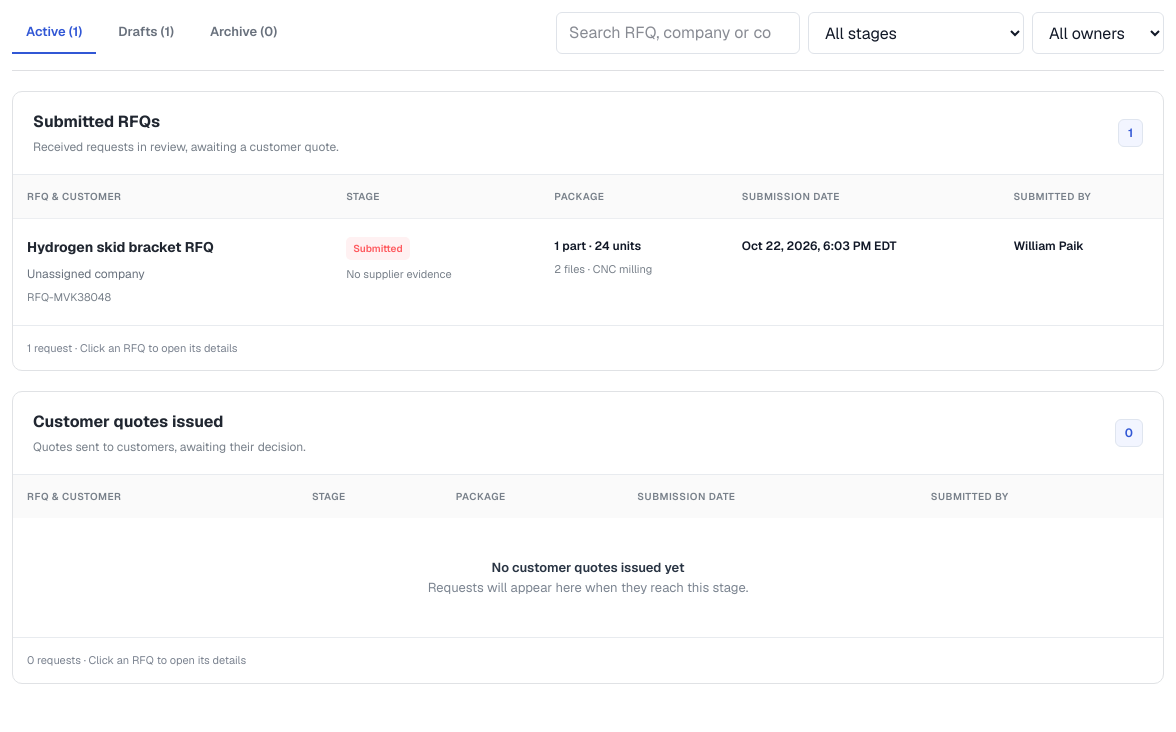
Test case: AdminQuoteManagement › keeps draft RFQs out of the active queue and opens the draft tab
This screenshot has width=1176, height=732.
expect the text "Draft bracket" is not shown: met
Click the button "Drafts (1)".
click(146, 33)  # box [104,12,188,54]
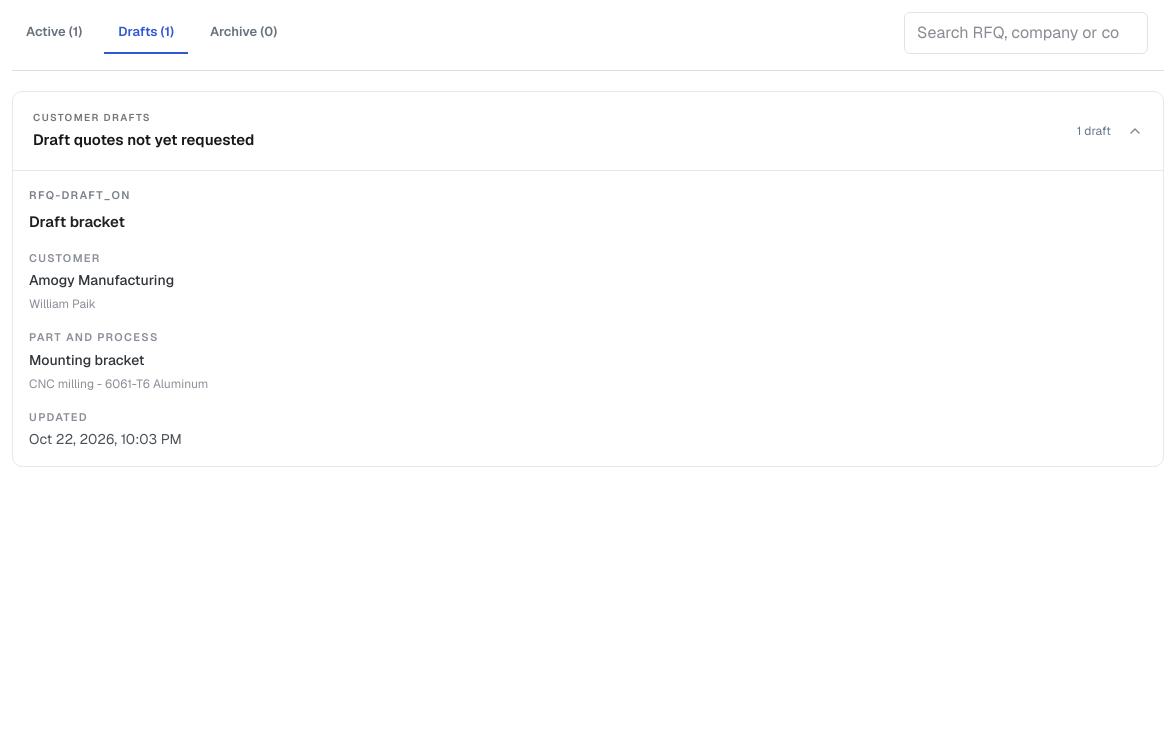
expect the text "Draft bracket" is shown: met, box [29,212,125,231]
expect the button with aria-label "Open draft for Draft bracket" is shown: met, box [29,188,208,448]
